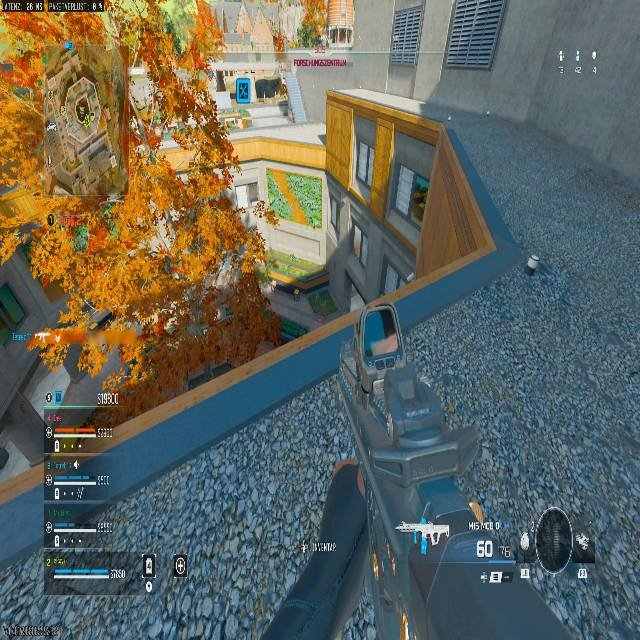player: (253, 198, 278, 228)
